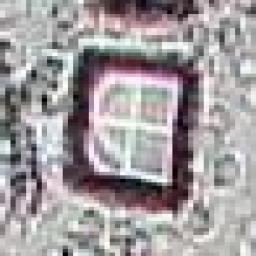crystals: (67, 49, 205, 214)
